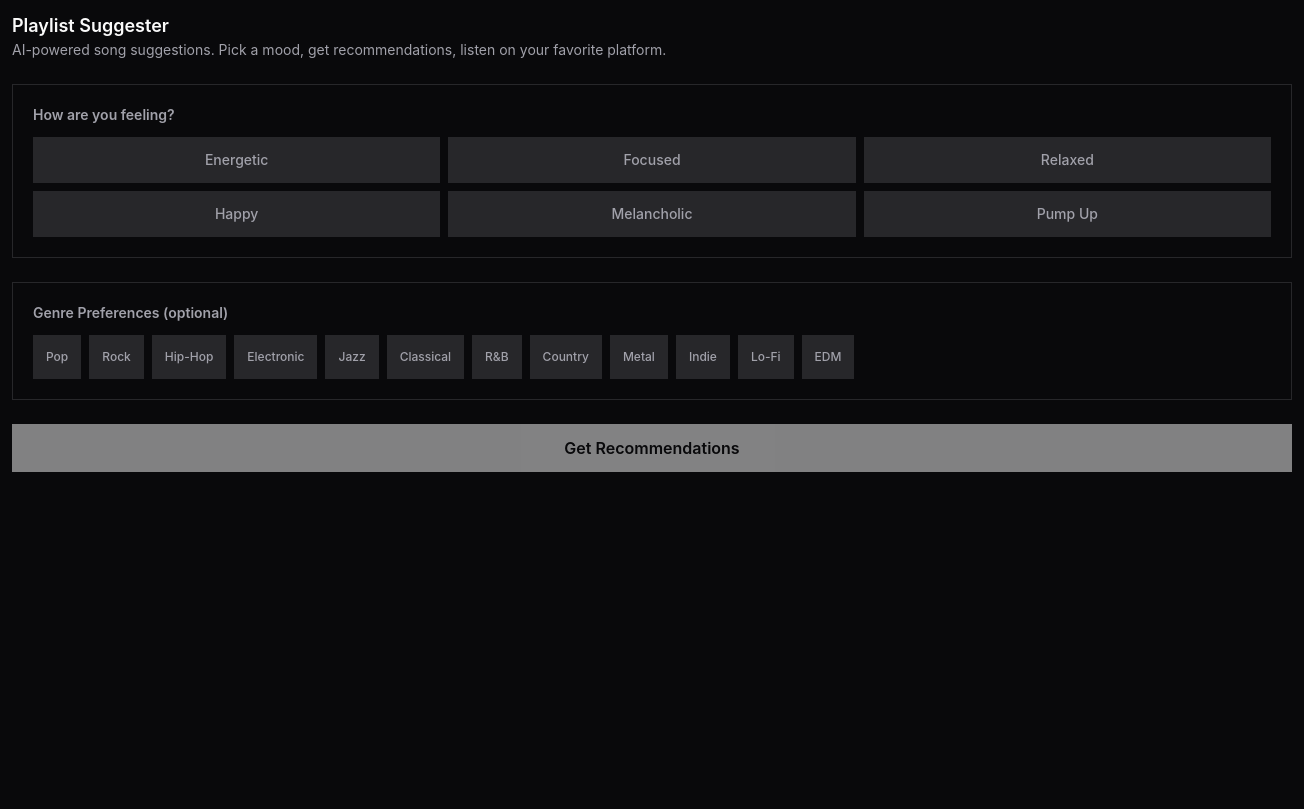
Test: MusicPage (Playlist Suggester) › renders songs with YouTube and Spotify links after generation
The width and height of the screenshot is (1304, 809).
Click the button "Energetic" at (237, 160), box x1=33 y1=137 x2=440 y2=183
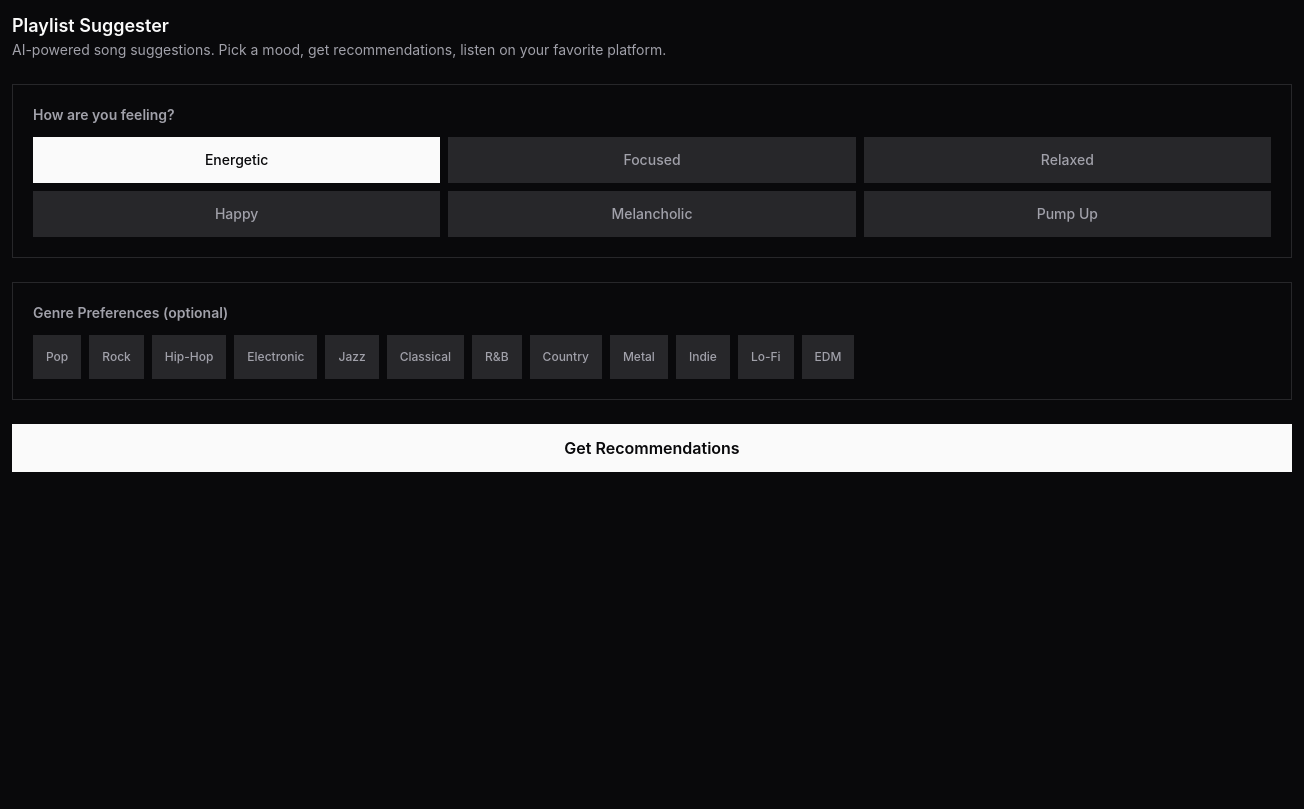
Click the button "Get Recommendations" at (652, 448), box x1=12 y1=424 x2=1292 y2=472
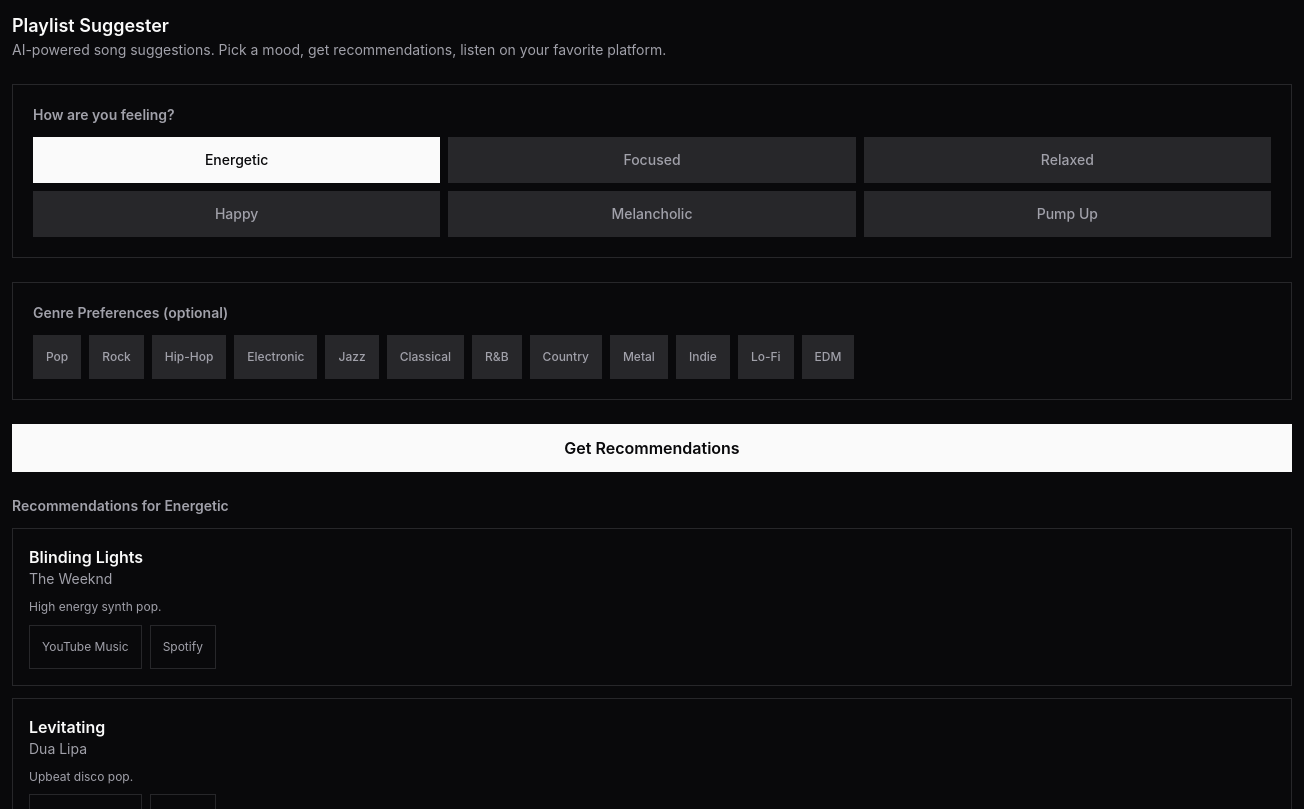
Expected: the text "Blinding Lights" is shown, x1=29 y1=547 x2=143 y2=567
Expected: the text "The Weeknd" is shown, x1=29 y1=570 x2=112 y2=587
Expected: the text "Levitating" is shown, x1=29 y1=716 x2=105 y2=736
